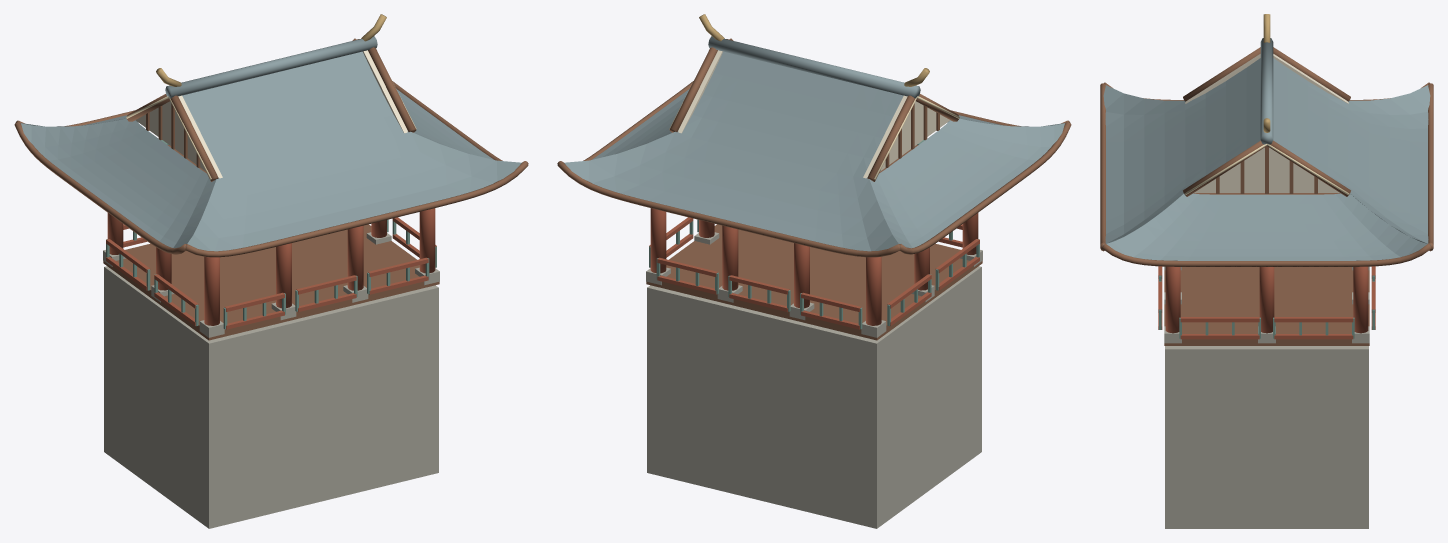
Rendered from Watch_LOD2.fbx.
3 views of the same model, side by side, from view 1: azimuth 30°, elevation 25°; view 2: azimuth 150°, elevation 25°; view 3: azimuth 270°, elevation 25° (orthographic). The views are drawn at different scales.
Parts seen in each view (by area): view 1: Watch_Detail2_Stone, Watch_Detail2_Roof, Watch_Detail2_Timber, Watch_Detail2_Vermilion, Watch_Detail2_Plaster, Watch_Detail2_Jade; view 2: Watch_Detail2_Stone, Watch_Detail2_Roof, Watch_Detail2_Timber, Watch_Detail2_Vermilion, Watch_Detail2_Plaster, Watch_Detail2_Jade; view 3: Watch_Detail2_Roof, Watch_Detail2_Stone, Watch_Detail2_Timber, Watch_Detail2_Vermilion, Watch_Detail2_Plaster, Watch_Detail2_Jade, Watch_Detail2_PaintIvory.
Part boxes in pixels (x1,y1,x2,y2): Watch_Detail2_Stone: [103, 232, 439, 528]; Watch_Detail2_Roof: [20, 36, 521, 251]; Watch_Detail2_Timber: [14, 38, 528, 340]; Watch_Detail2_Vermilion: [106, 208, 436, 329]; Watch_Detail2_Plaster: [136, 50, 407, 178]; Watch_Detail2_Jade: [106, 140, 436, 329]; Watch_Detail2_Stone: [646, 232, 982, 528]; Watch_Detail2_Roof: [564, 36, 1065, 251]; Watch_Detail2_Timber: [557, 38, 1071, 340]; Watch_Detail2_Vermilion: [649, 208, 979, 329]; Watch_Detail2_Plaster: [678, 50, 949, 178]; Watch_Detail2_Jade: [649, 140, 979, 329]; Watch_Detail2_Roof: [1103, 38, 1430, 260]; Watch_Detail2_Stone: [1164, 266, 1369, 528]; Watch_Detail2_Timber: [1100, 47, 1433, 345]; Watch_Detail2_Vermilion: [1158, 266, 1375, 339]; Watch_Detail2_Plaster: [1185, 54, 1348, 192]; Watch_Detail2_Jade: [1159, 275, 1374, 338]; Watch_Detail2_PaintIvory: [1184, 144, 1349, 194].
Size of the model in its own units: 14.44 by 16.82 by 12.44.
